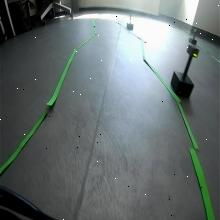green: (186, 43, 199, 59)
